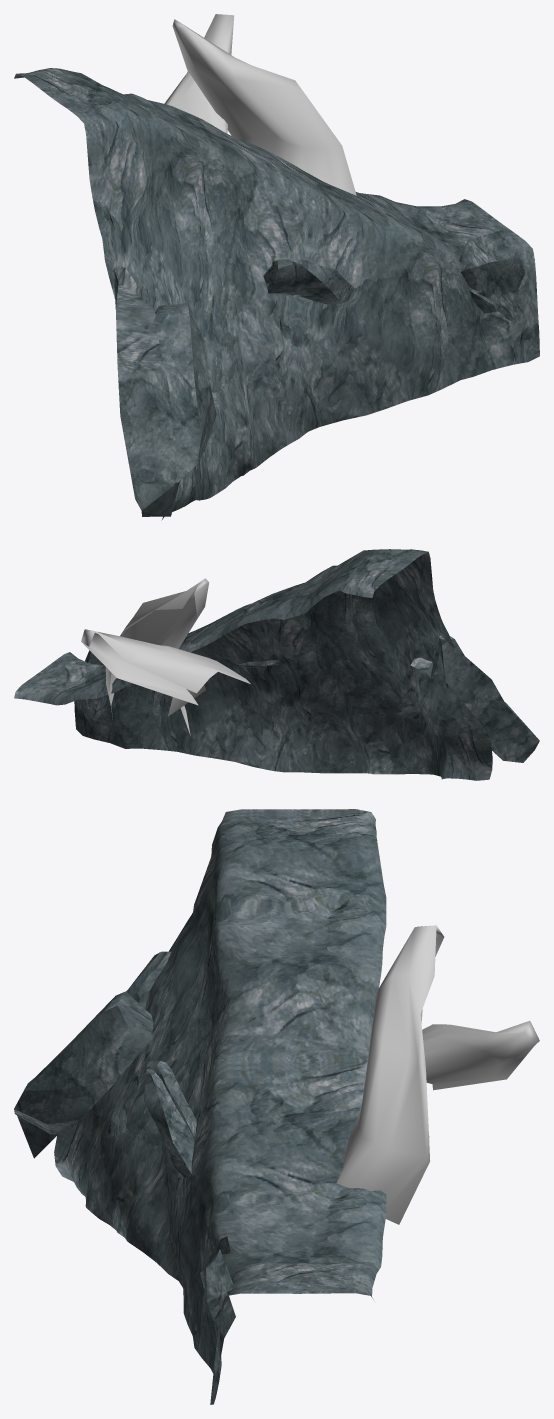
File: SlopeDownPiece1.fbx
3 renders of one model, top to bottom at view 1: azimuth 30°, elevation 25°; view 2: azimuth 150°, elevation 25°; view 3: azimuth 270°, elevation 25°, orthographic. The views are drawn at different scales.
Parts seen in each view (by area): view 1: SlopeDownPiece1; view 2: SlopeDownPiece1; view 3: SlopeDownPiece1.
Part boxes in pixels (x1,y1,x2,y2): SlopeDownPiece1: [14, 14, 539, 520]; SlopeDownPiece1: [14, 549, 539, 780]; SlopeDownPiece1: [14, 809, 539, 1404].
Size of the model in its own units: 10.99 by 7.38 by 9.52.
